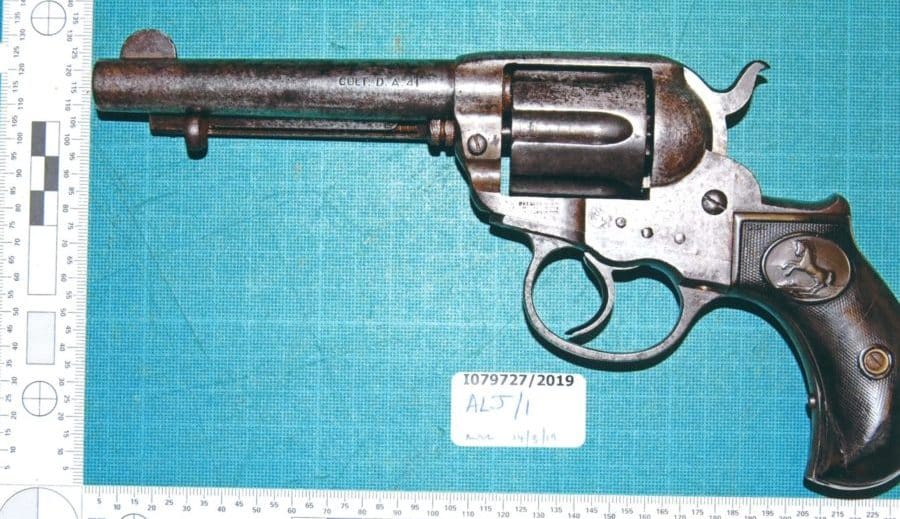gun: (90, 23, 900, 500)
